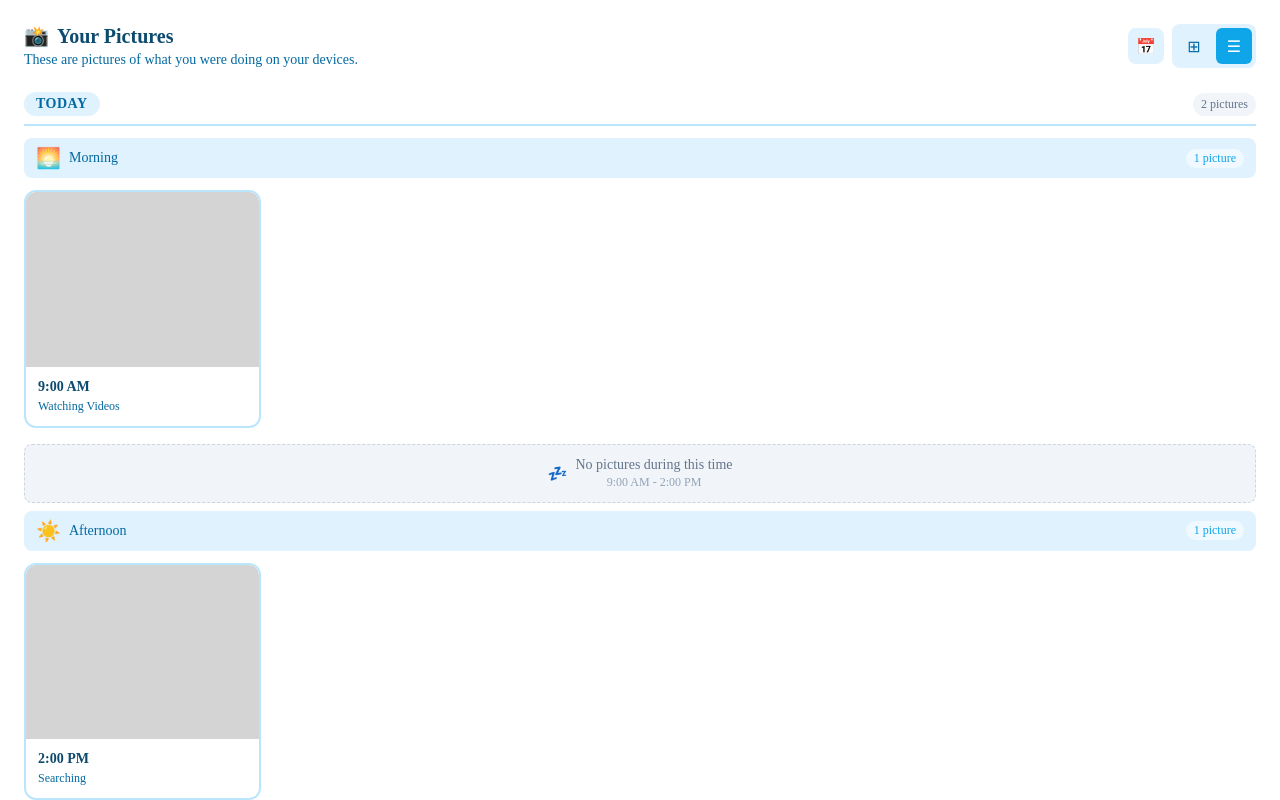
Test: ChildScreenshotGallery › Story 19B.2 - Date Navigation (AC: #4) › should open date picker modal when calendar button is clicked
Click the button with test id "calendar-button".
click(1146, 46)  # box x1=1128 y1=28 x2=1164 y2=64
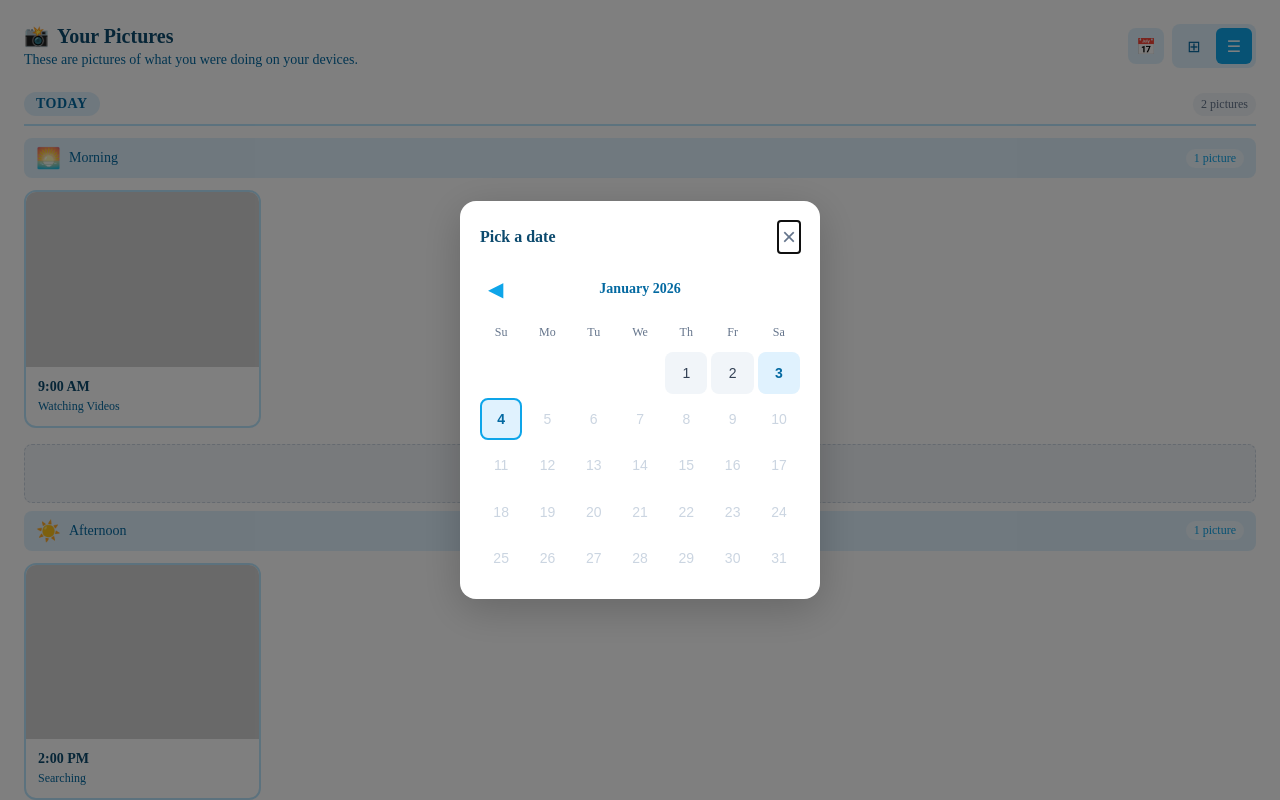
Expected: the dialog with test id "date-picker-modal" is shown
